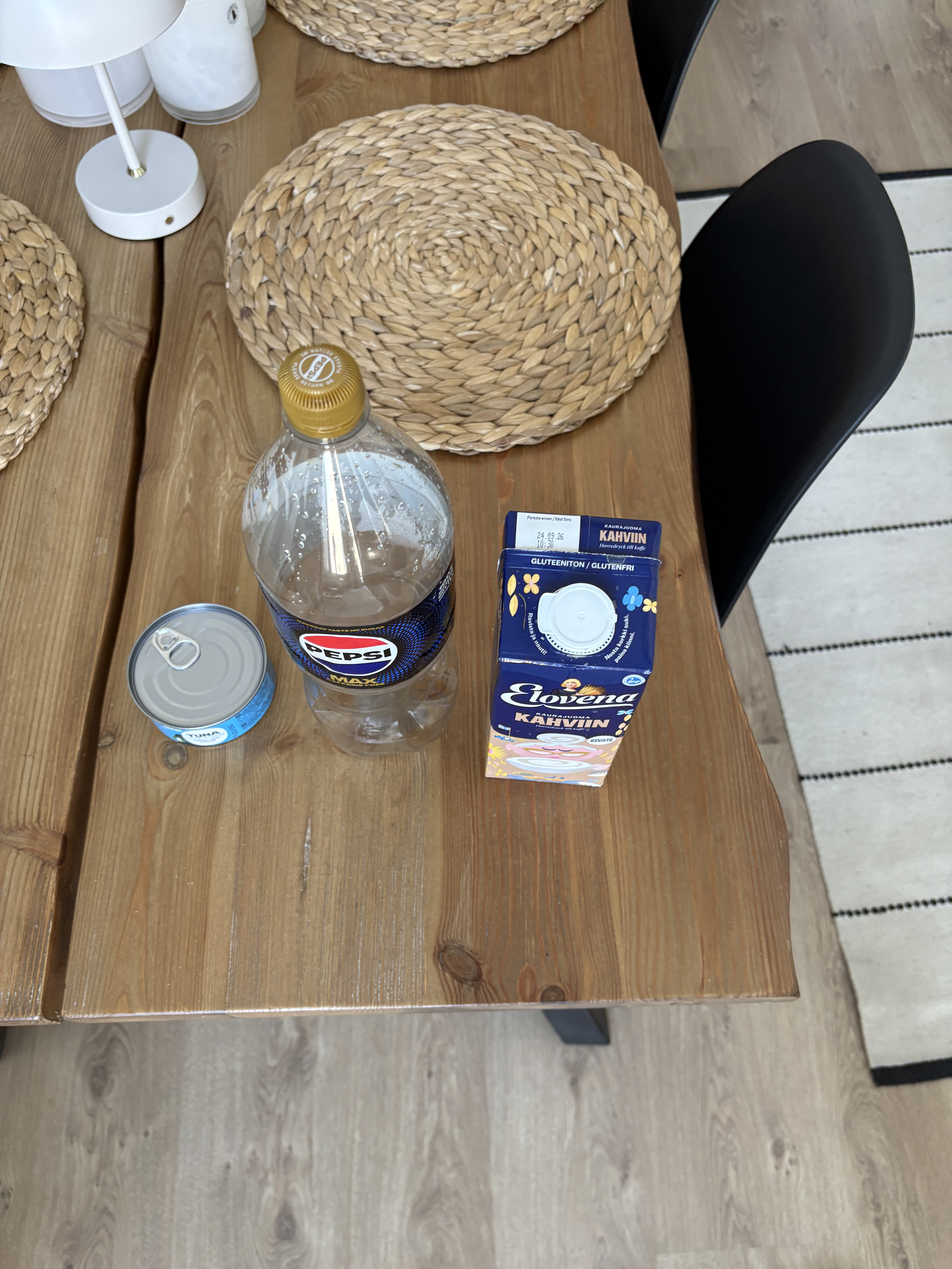Dryckeskartong: (490, 507, 664, 794)
Konservburk: (127, 596, 273, 757)
Pantburk: (223, 349, 443, 773)
